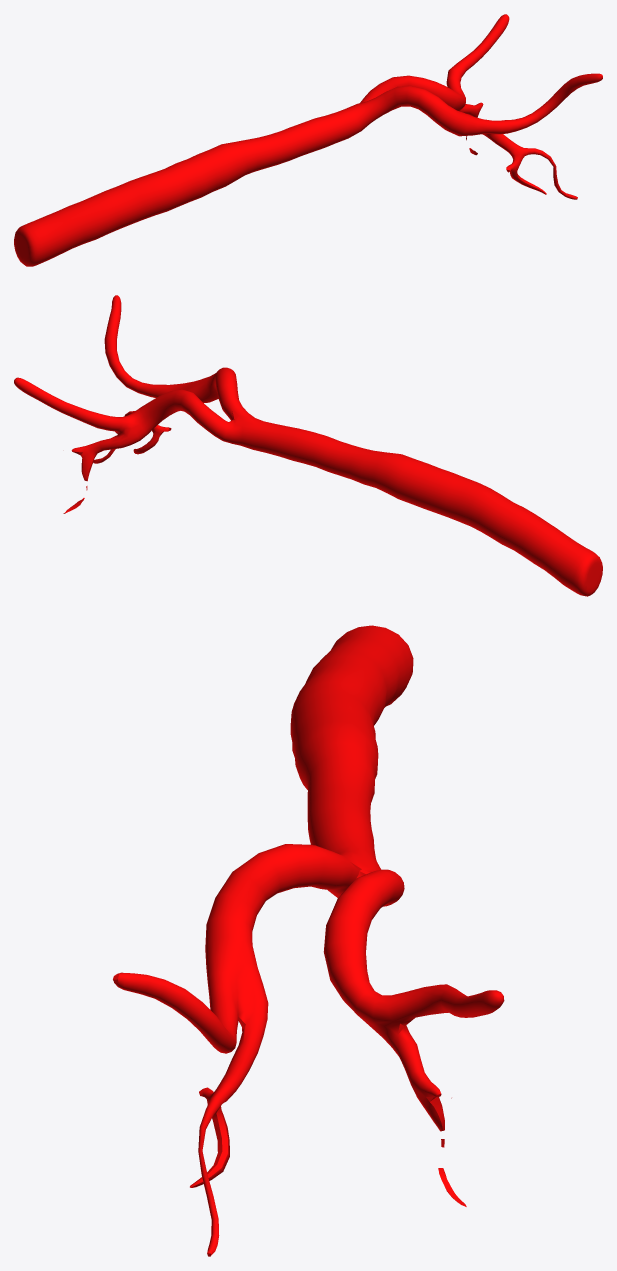
File: Aorta.obj
The picture shows the model from 3 angles, top to bottom: view 1: azimuth 30°, elevation 25°; view 2: azimuth 150°, elevation 25°; view 3: azimuth 270°, elevation 25°; orthographic projection. The views are drawn at different scales.
Visible parts, largest first — view 1: Aorta; view 2: Aorta; view 3: Aorta.
Boxes of the visible parts, x1,y1,x2,y2 form: Aorta: [14, 14, 602, 266]; Aorta: [14, 295, 602, 596]; Aorta: [113, 625, 504, 1256].
Bounding box in the file's own units: 13.51 × 3.54 × 4.42.
